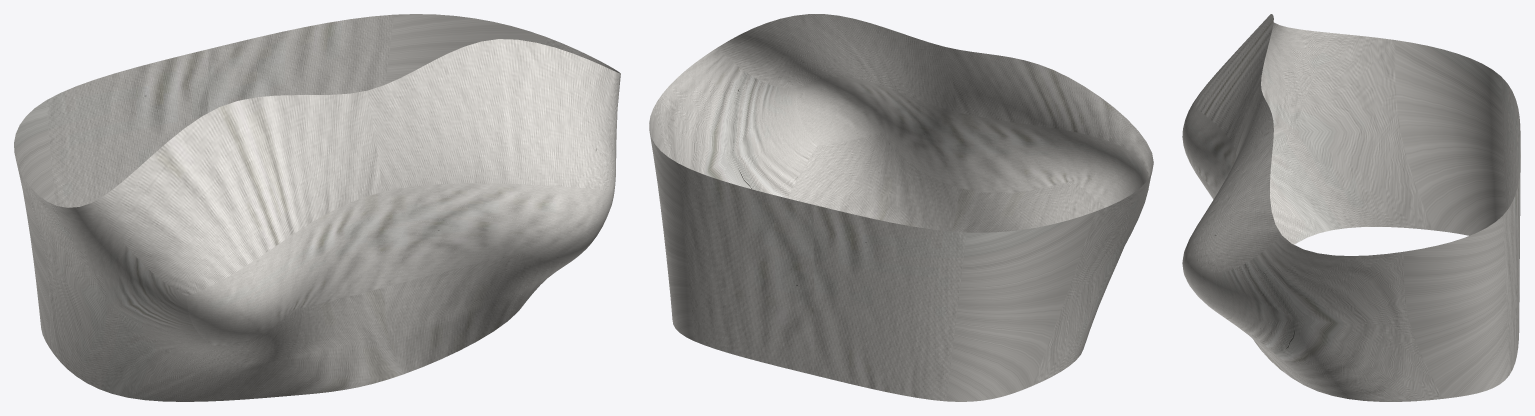
File: top.fbx
3 views of the same model, side by side, from view 1: azimuth 30°, elevation 25°; view 2: azimuth 150°, elevation 25°; view 3: azimuth 270°, elevation 25° (orthographic). The views are drawn at different scales.
Parts seen in each view (by area): view 1: top; view 2: top; view 3: top.
Boxes of the visible parts, <box> form: top: <box>14,14,620,401</box>; top: <box>649,14,1153,401</box>; top: <box>1182,14,1520,401</box>.
Bounding box in the file's own units: 31.2 × 15.82 × 20.05.
Materials: 1 (1 with a texture image).
